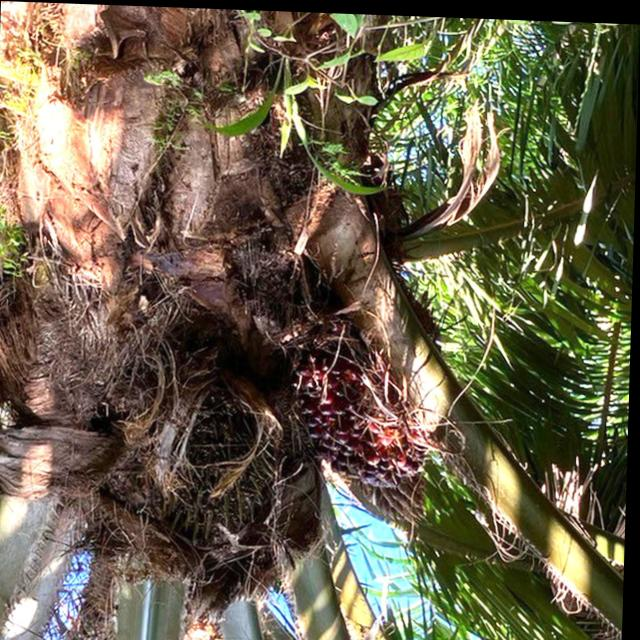ripe: (292, 338, 438, 486)
